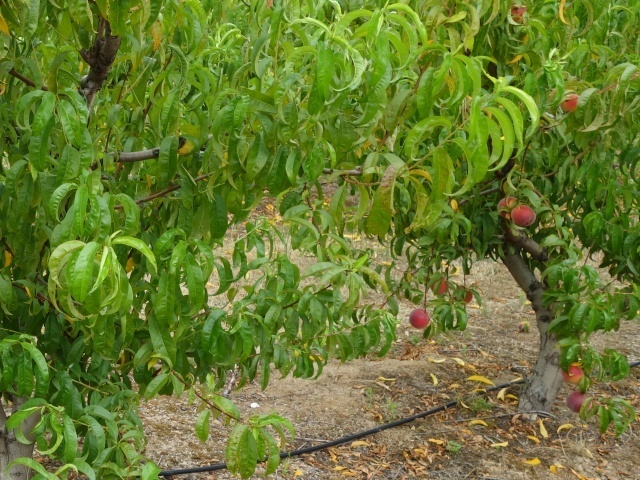peach: (510, 201, 539, 231), (493, 192, 524, 220), (558, 361, 585, 392), (565, 387, 593, 416), (406, 304, 434, 331), (558, 89, 583, 113)
